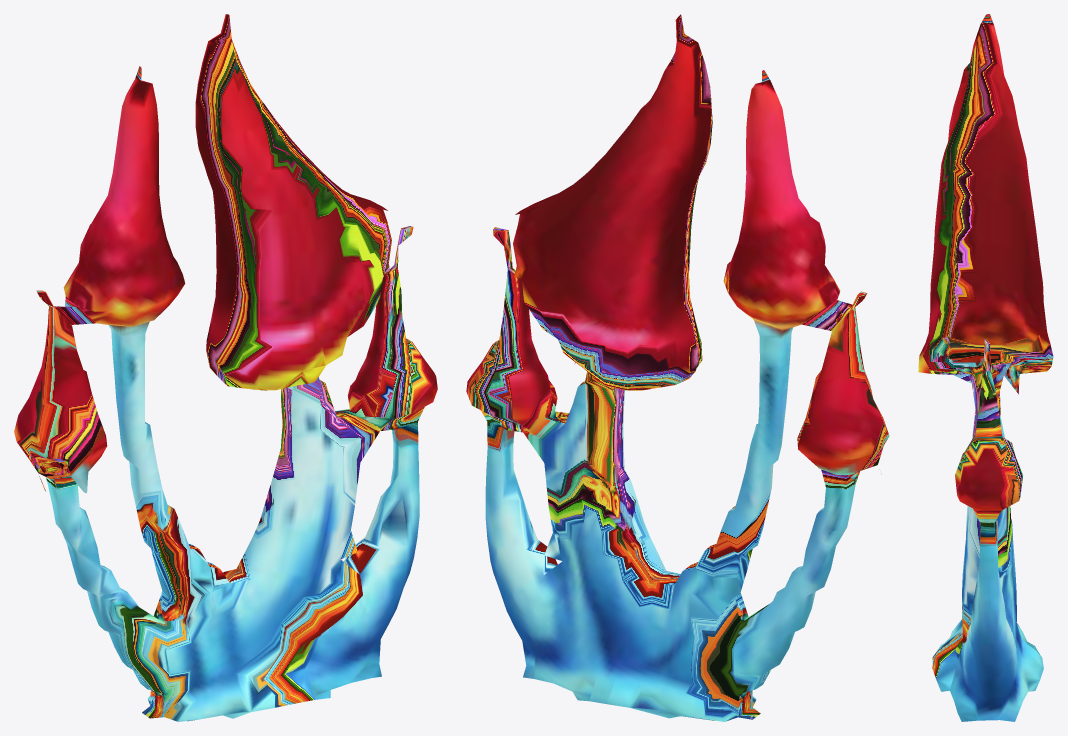
3 renders of one model, left to right at view 1: azimuth 30°, elevation 25°; view 2: azimuth 150°, elevation 25°; view 3: azimuth 270°, elevation 25°, orthographic. The views are drawn at different scales.
Visible parts, largest first — view 1: model.002; view 2: model.002; view 3: model.002.
Part boxes in pixels (x1,y1,x2,y2): model.002: [14, 14, 437, 721]; model.002: [466, 14, 889, 721]; model.002: [918, 14, 1053, 721].
Size of the model in its own units: 0.6094 by 0.9859 by 0.1886.
1 material, 1 textured.
